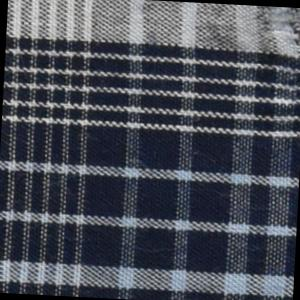Damage: (247, 6, 300, 94)
